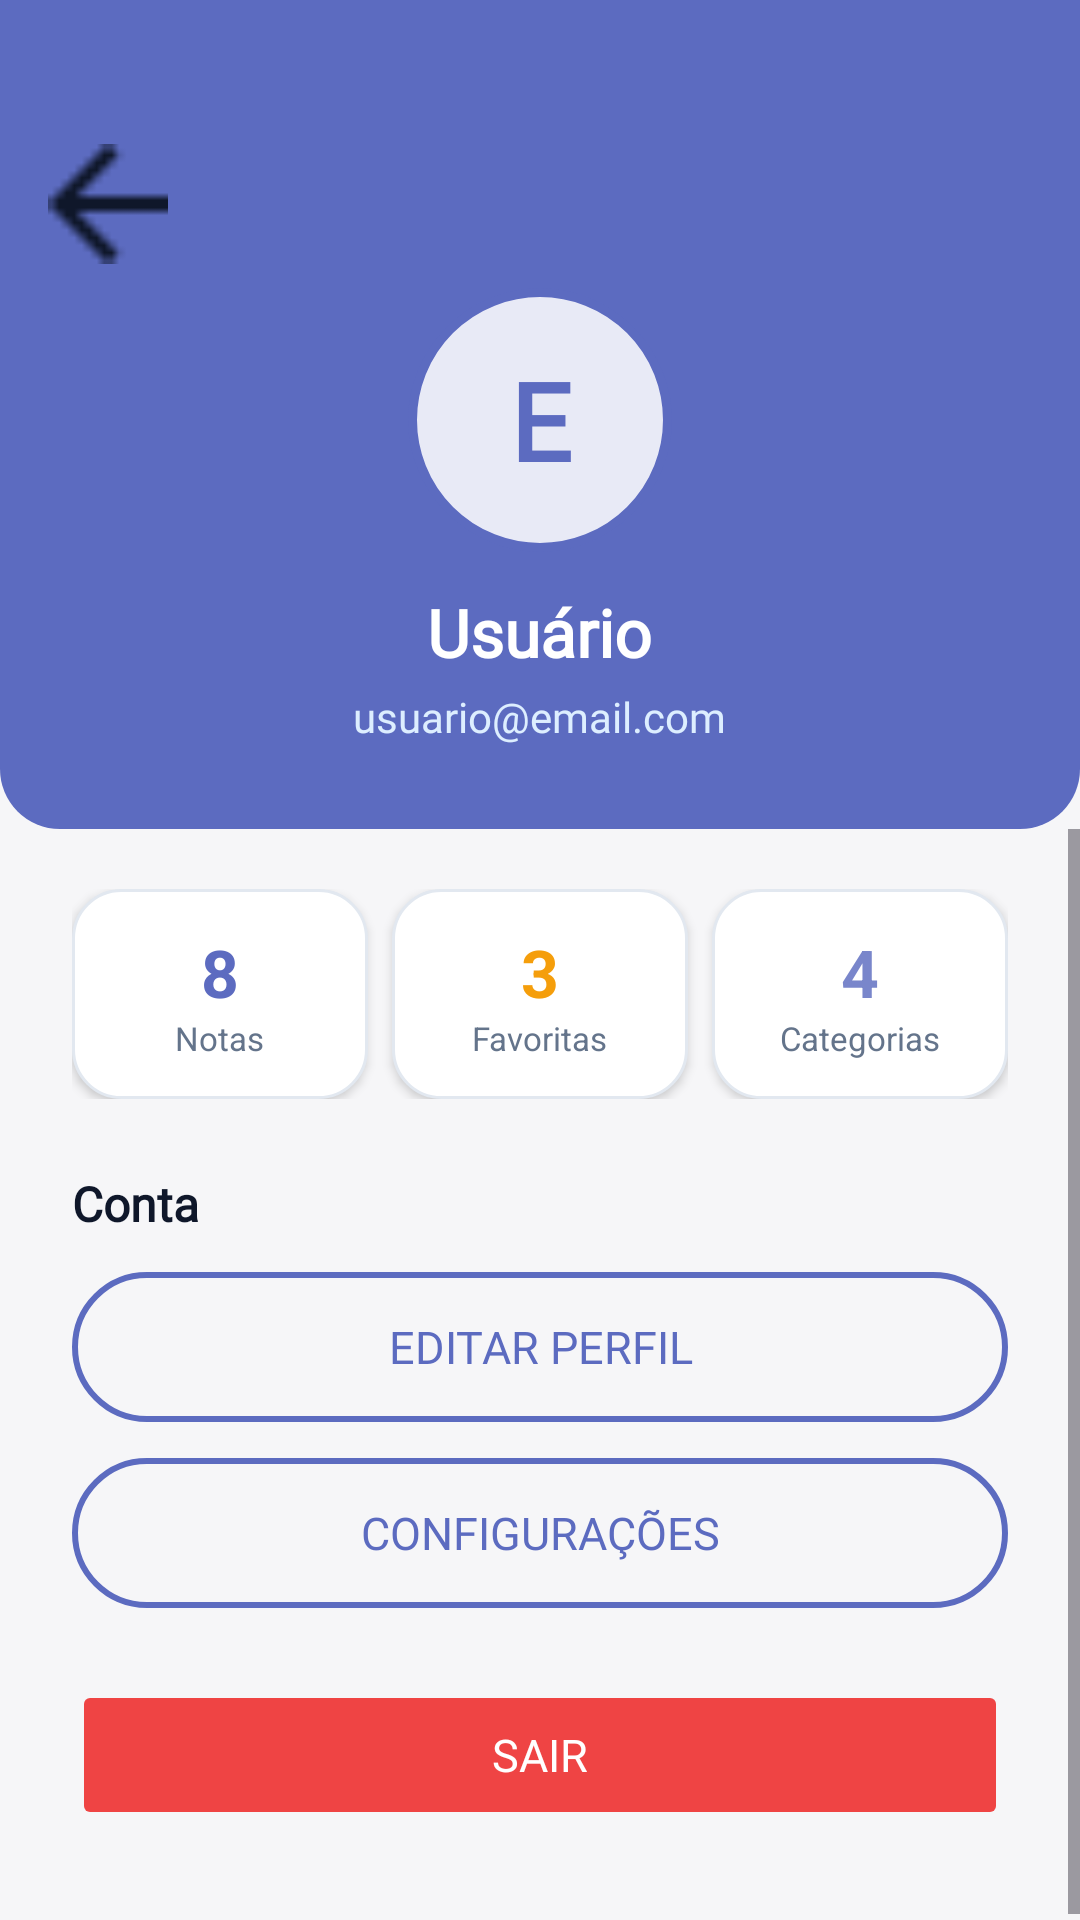

Where to tap for icons on this 1080x1920 app screen, as [x,y]:
Voltar: [108,204]
